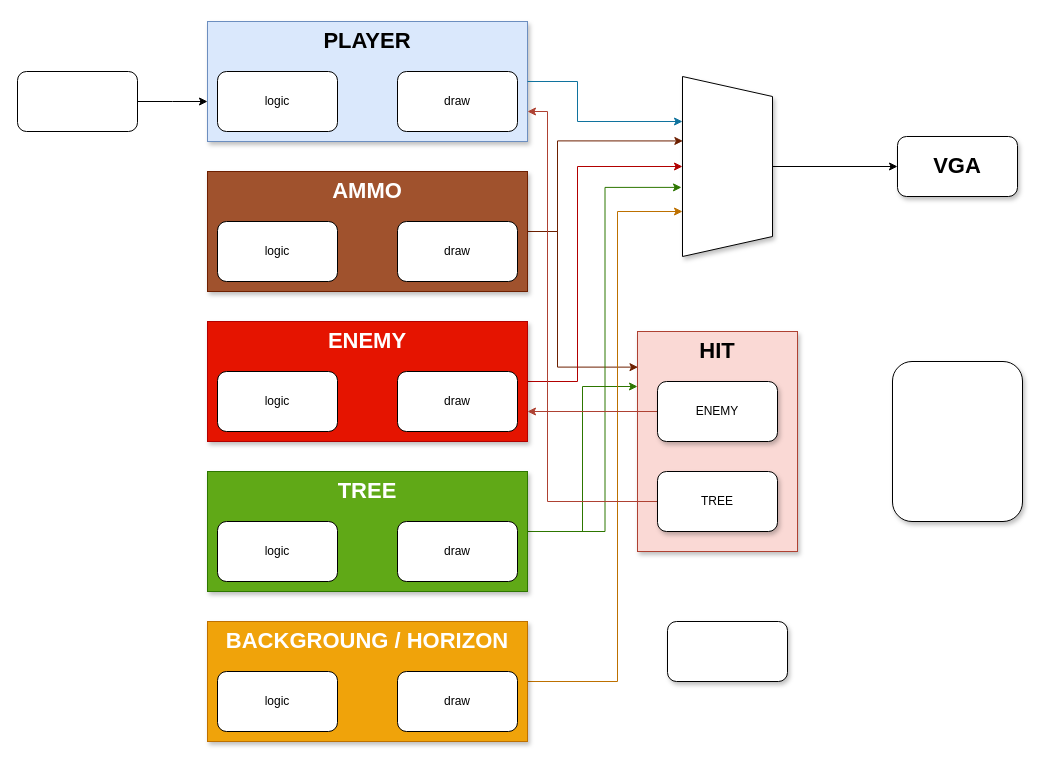
Image size: 1046x766. Some labels were removed from this diagram. The centre of each missing label's shape, as x and y in pixels:
"GAME CONTROLLER" goes at (x=958, y=442).
"KBD" goes at (x=77, y=101).
"MUX" goes at (x=728, y=167).
"SOUND" goes at (x=728, y=652).
